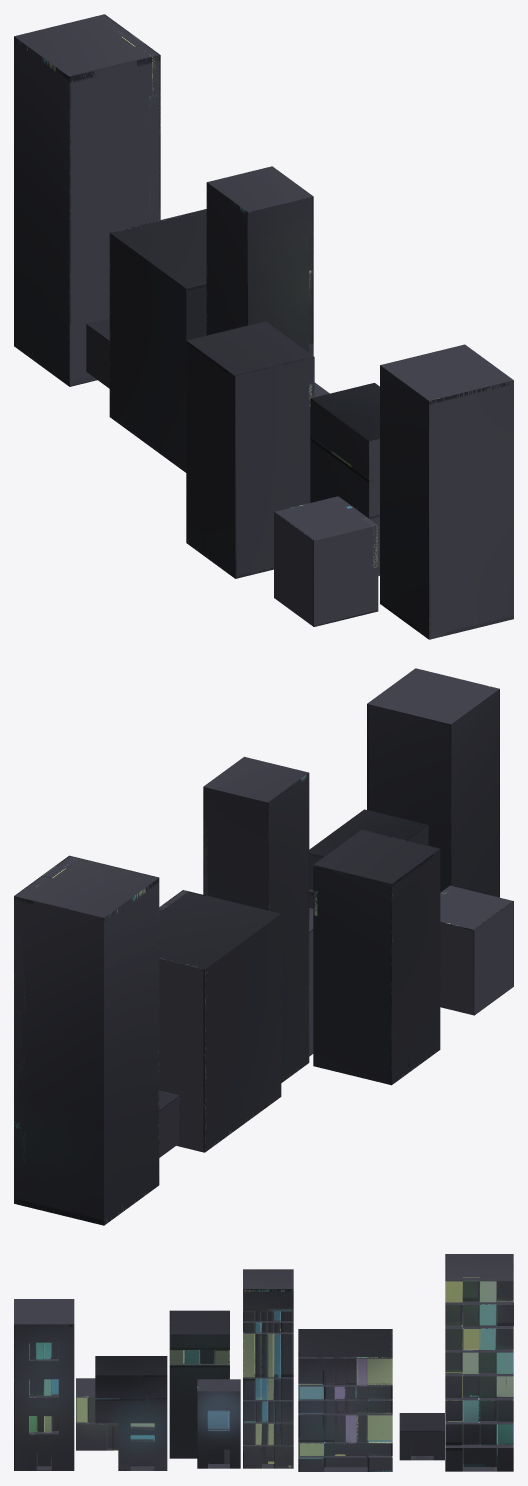
File: Buildings.fbx
3 views of the same model, one above another, from view 1: azimuth 30°, elevation 25°; view 2: azimuth 150°, elevation 25°; view 3: azimuth 270°, elevation 25° (orthographic). The views are drawn at different scales.
Parts seen in each view (by area): view 1: Cube.008, Cube.009, Cube.003, Cube.001, Cube, Cube.007, Cube.005, Cube.004; view 2: Cube.008, Cube.003, Cube.001, Cube.009, Cube, Cube.007, Cube.005, Cube.004, Cube.002; view 3: Cube.008, Cube.001, Cube.009, Cube, Cube.005, Cube.003, Cube.002, Cube.004, Cube.007.
Part boxes in pixels (box(x1,y1,x2,y2)): Cube.008: box(14, 14, 160, 386); Cube.009: box(380, 344, 513, 639); Cube.003: box(186, 321, 314, 578); Cube.001: box(109, 209, 206, 472); Cube: box(206, 166, 313, 355); Cube.007: box(274, 496, 378, 626); Cube.005: box(310, 383, 379, 576); Cube.004: box(86, 318, 109, 388); Cube.008: box(14, 855, 159, 1225); Cube.003: box(313, 829, 440, 1085); Cube.001: box(159, 890, 281, 1152); Cube.009: box(367, 668, 499, 897); Cube: box(203, 756, 309, 1082); Cube.007: box(440, 885, 513, 1015); Cube.005: box(309, 809, 428, 908); Cube.004: box(159, 1090, 180, 1157); Cube.002: box(309, 908, 313, 1056); Cube.008: box(445, 1254, 513, 1471); Cube.001: box(298, 1329, 392, 1471); Cube.009: box(14, 1299, 74, 1470); Cube: box(243, 1269, 293, 1468); Cube.005: box(95, 1356, 167, 1470); Cube.003: box(169, 1310, 229, 1458); Cube.002: box(197, 1379, 240, 1468); Cube.004: box(399, 1413, 444, 1460); Cube.007: box(76, 1378, 118, 1450).
Bounding box in the file's own units: 8425 × 16853 × 38420.
Materials: 1 (1 with a texture image).
